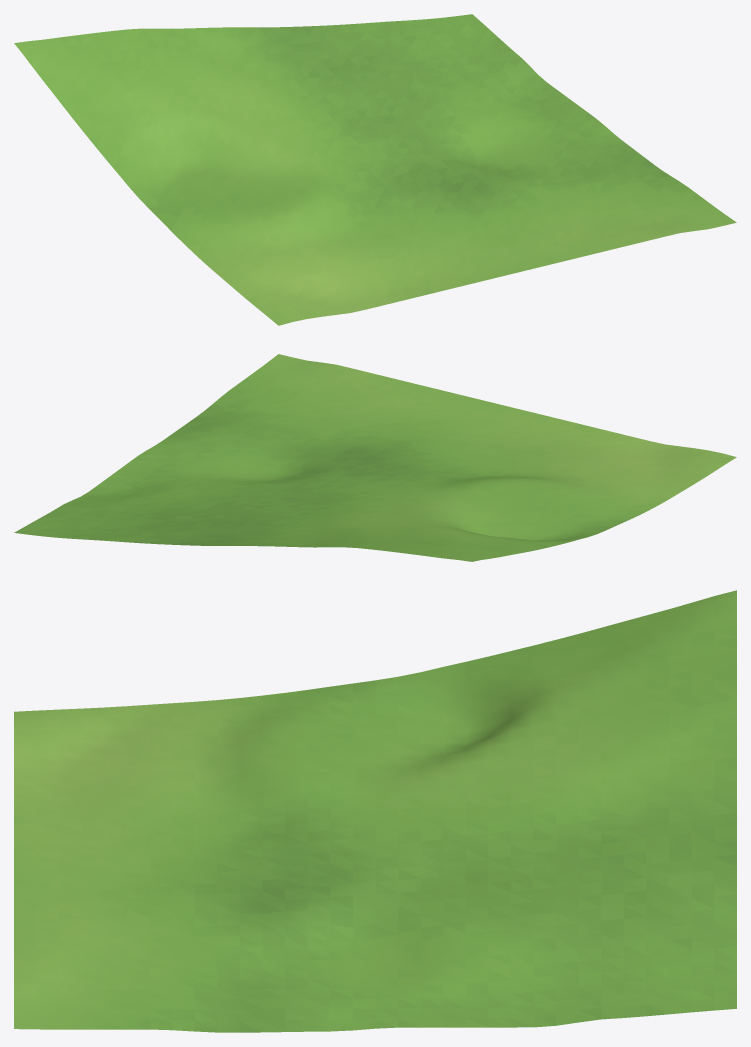
The model's file is terrain_r3_c1.glb.
3 views of the same model, one above another, from view 1: azimuth 30°, elevation 25°; view 2: azimuth 150°, elevation 25°; view 3: azimuth 270°, elevation 25° (orthographic). The views are drawn at different scales.
Visible parts, largest first — view 1: terrain_r3_c1; view 2: terrain_r3_c1; view 3: terrain_r3_c1.
Part boxes in pixels (x1=…): terrain_r3_c1: x1=14, y1=14, x2=736, y2=325; terrain_r3_c1: x1=14, y1=354, x2=736, y2=561; terrain_r3_c1: x1=14, y1=590, x2=736, y2=1032.
Bounding box in the file's own units: 128 × 26.75 × 128.
Materials: 1 (1 with a texture image).
